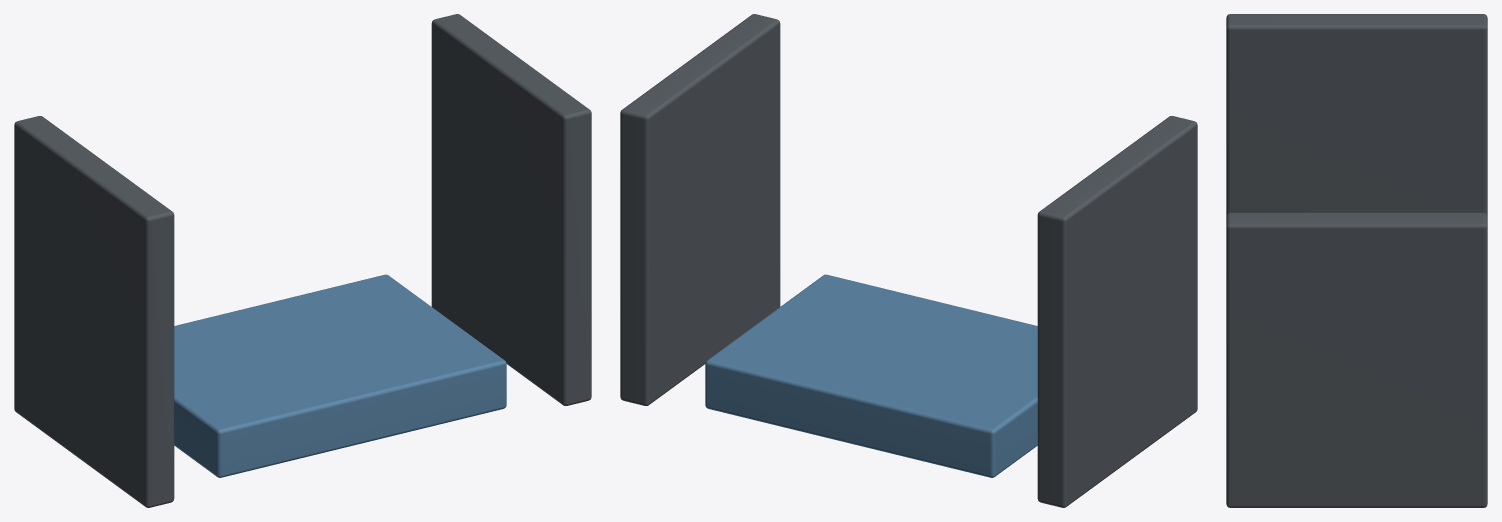
The model's file is atelier-bookends.glb.
3 renders of one model, left to right at view 1: azimuth 30°, elevation 25°; view 2: azimuth 150°, elevation 25°; view 3: azimuth 270°, elevation 25°, orthographic. The views are drawn at different scales.
Parts seen in each view (by area): view 1: metal.100, artBlue.016; view 2: metal.100, artBlue.016; view 3: metal.100.
Part boxes in pixels (box(x1,y1,x2,y2)): metal.100: box(14, 14, 591, 507); artBlue.016: box(174, 274, 506, 477); metal.100: box(620, 14, 1197, 507); artBlue.016: box(705, 274, 1037, 477); metal.100: box(1226, 14, 1487, 507).
Bounding box in the file's own units: 0.385 × 0.24 × 0.2.
